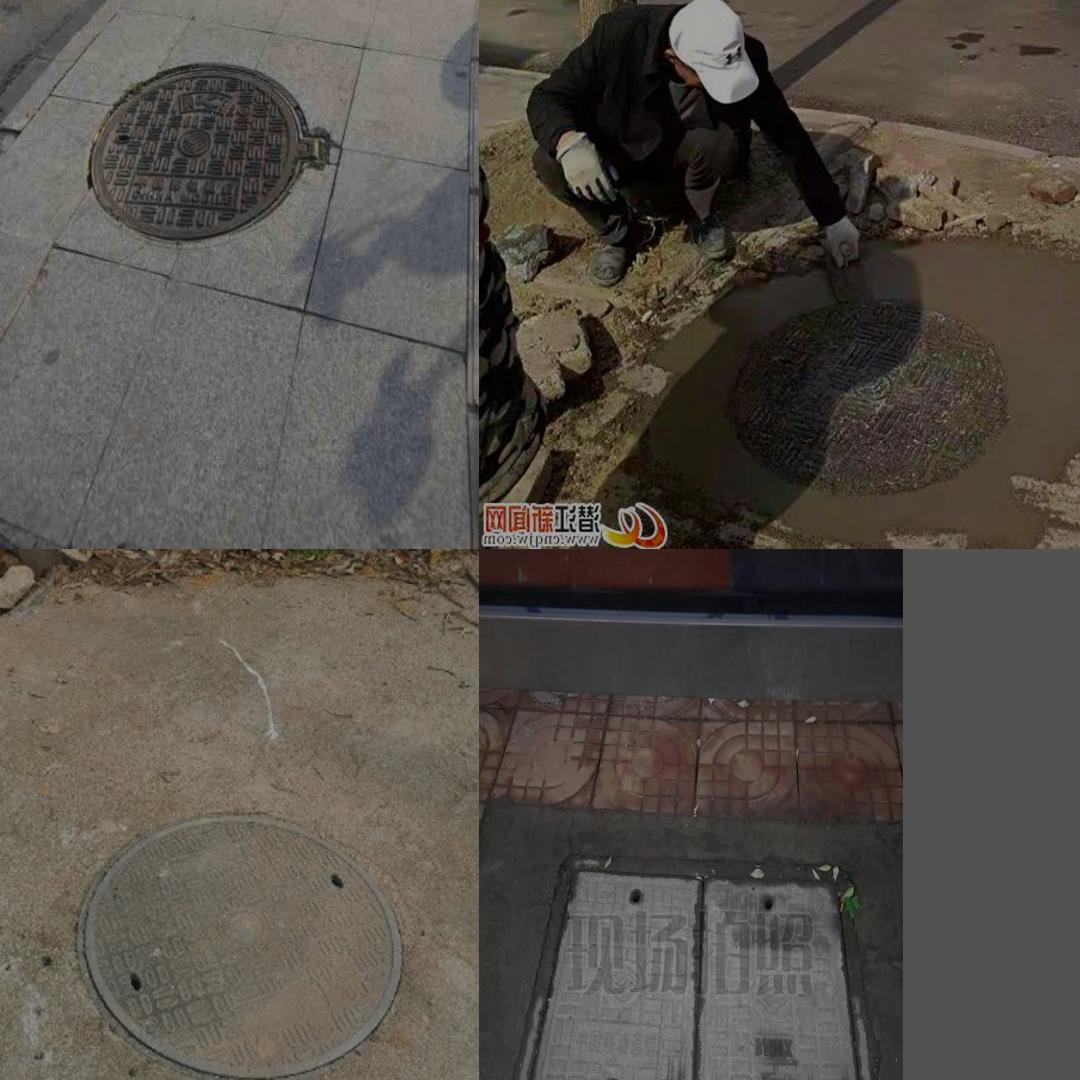good: (654, 230, 1080, 535), (76, 814, 405, 1080), (508, 854, 884, 1080), (88, 61, 323, 240)
